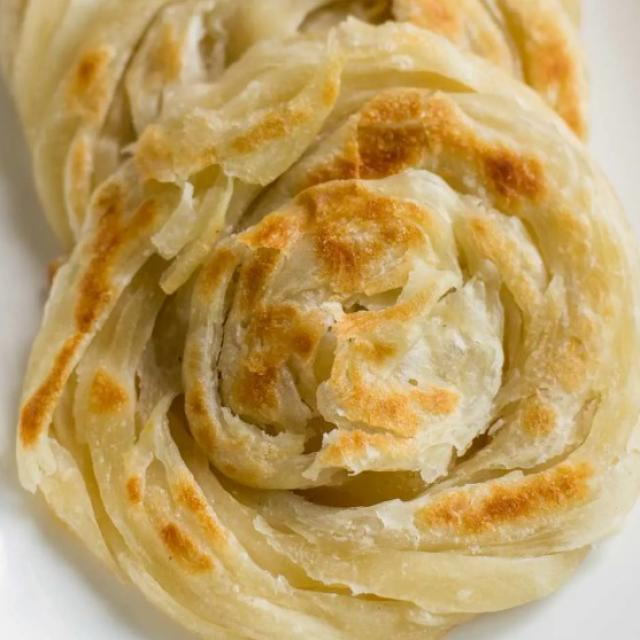PAROTTA: (0, 0, 639, 639)
